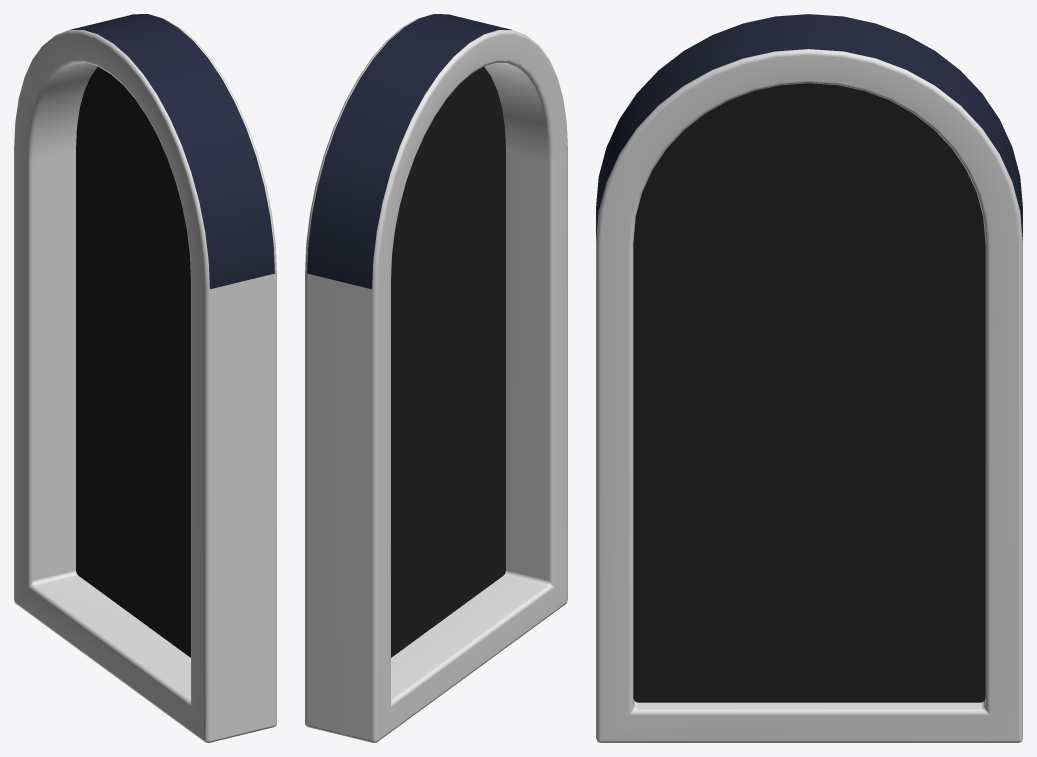
File: FM_White_H_Window_03_001.fbx
3 renders of one model, left to right at view 1: azimuth 30°, elevation 25°; view 2: azimuth 150°, elevation 25°; view 3: azimuth 270°, elevation 25°, orthographic. The views are drawn at different scales.
Visible parts, largest first — view 1: FM_White_H_Window_03_001; view 2: FM_White_H_Window_03_001; view 3: FM_White_H_Window_03_001.
Part boxes in pixels (x1,y1,x2,y2): FM_White_H_Window_03_001: [14, 14, 276, 742]; FM_White_H_Window_03_001: [305, 14, 567, 742]; FM_White_H_Window_03_001: [596, 14, 1022, 742].
Size of the model in its own units: 0.1847 by 1.54 by 0.8562.
